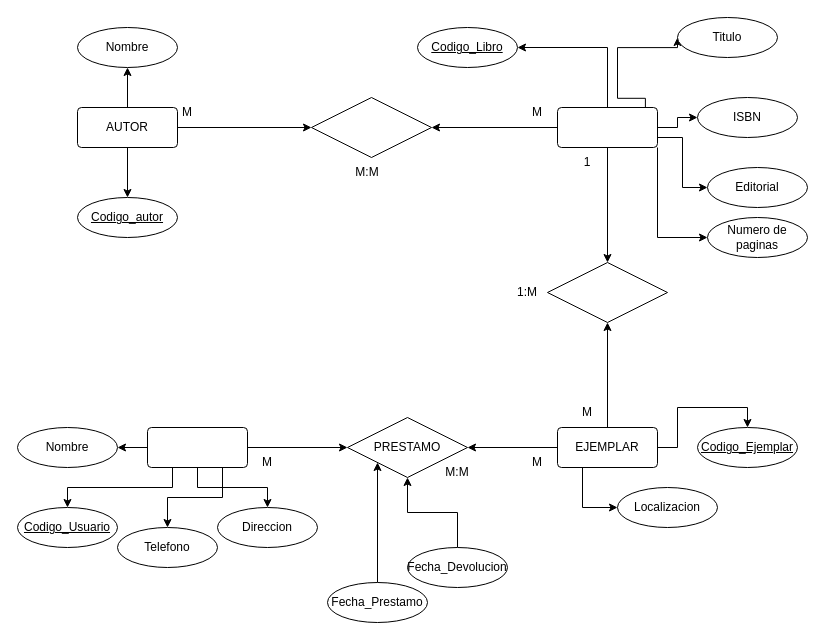
This 825x640 diagram has some shape labels left out. Each missing label, with the centre of its shape:
ESCRIBE: point 371,127
LIBRO: point 607,127
TIENE: point 607,292
USUARIO: point 197,447
